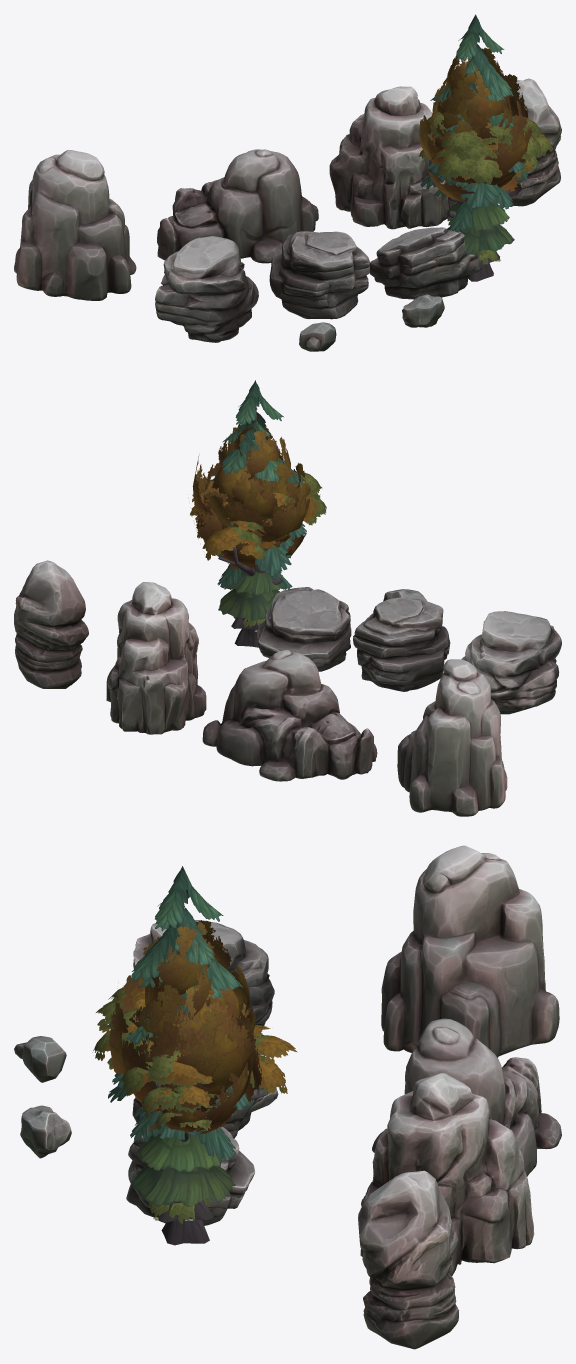
File: painted_nature.glb
The picture shows the model from 3 angles, top to bottom: view 1: azimuth 30°, elevation 25°; view 2: azimuth 150°, elevation 25°; view 3: azimuth 270°, elevation 25°; orthographic projection. The views are drawn at different scales.
Parts seen in each view (by area): view 1: RockBig_3, RockBig_2, RockBig_1, RockMid_1, RockMid_2, RockMid_3, Birch_2, Oak_2, Pine_3, RockTall, Spruce_2, Birch_1 (+4 smaller); view 2: RockBig_1, RockBig_3, RockBig_2, RockTall, RockMid_2, RockMid_1, Birch_2, RockMid_3, Pine_3, Birch_1, Spruce_2, OakAutumn_2 (+3 smaller); view 3: RockBig_3, RockBig_2, Birch_2, RockTall, RockBig_1, Pine_3, Spruce_2, OakAutumn_2, RockMid_1, Oak_2, RockMid_3, Birch_1 (+6 smaller).
Part boxes in pixels (x1,y1,x2,y2): RockBig_3: (14, 150, 136, 300); RockBig_2: (329, 86, 455, 229); RockBig_1: (157, 149, 318, 263); RockMid_1: (155, 236, 258, 342); RockMid_2: (269, 231, 369, 319); RockMid_3: (369, 227, 482, 299); Birch_2: (419, 47, 532, 187); Oak_2: (419, 112, 552, 204); Pine_3: (420, 14, 528, 208); RockTall: (505, 78, 561, 206); Spruce_2: (445, 186, 514, 254); Birch_1: (427, 85, 530, 201); RockBig_1: (202, 650, 377, 781); RockBig_3: (397, 659, 507, 816); RockBig_2: (106, 582, 206, 734); RockTall: (14, 560, 88, 688); RockMid_2: (353, 597, 450, 691); RockMid_1: (461, 611, 561, 714); Birch_2: (192, 423, 310, 560); RockMid_3: (257, 587, 351, 671); Pine_3: (212, 380, 306, 572); Birch_1: (196, 453, 306, 568); Spruce_2: (218, 566, 284, 620); OakAutumn_2: (190, 472, 323, 573); RockBig_3: (381, 845, 559, 1057); RockBig_2: (360, 1073, 534, 1276); Birch_2: (109, 920, 263, 1134); RockTall: (358, 1170, 458, 1349); RockBig_1: (372, 1018, 561, 1176); Pine_3: (108, 866, 252, 1139); Spruce_2: (131, 1129, 235, 1206); OakAutumn_2: (95, 991, 297, 1110); RockMid_1: (133, 920, 274, 1036); Oak_2: (92, 987, 284, 1110); RockMid_3: (126, 1127, 255, 1225); Birch_1: (129, 987, 254, 1130).
Bounding box in the file's own units: 23.36 × 11.9 × 15.27.
8 materials, 8 textured.
